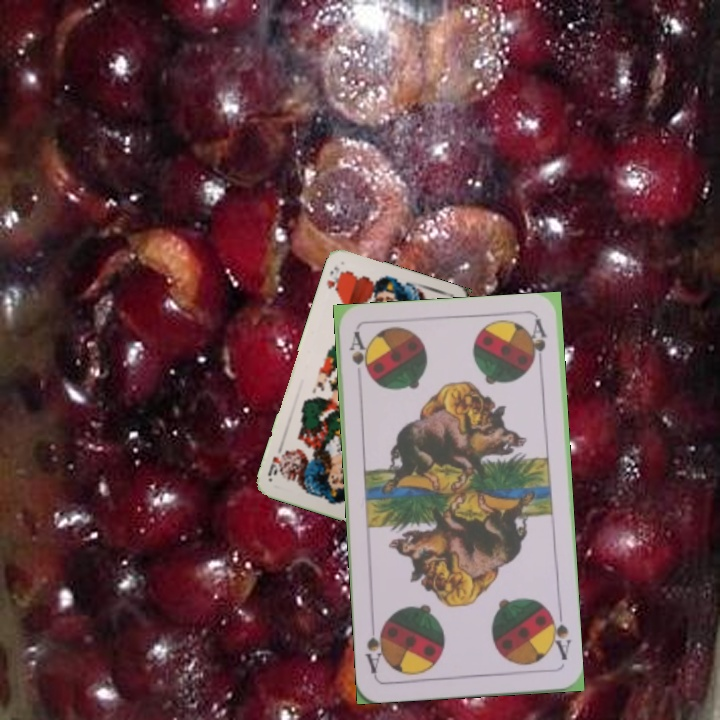HO: (323, 262, 346, 296)
SA: (544, 607, 573, 663), (345, 328, 371, 379)
